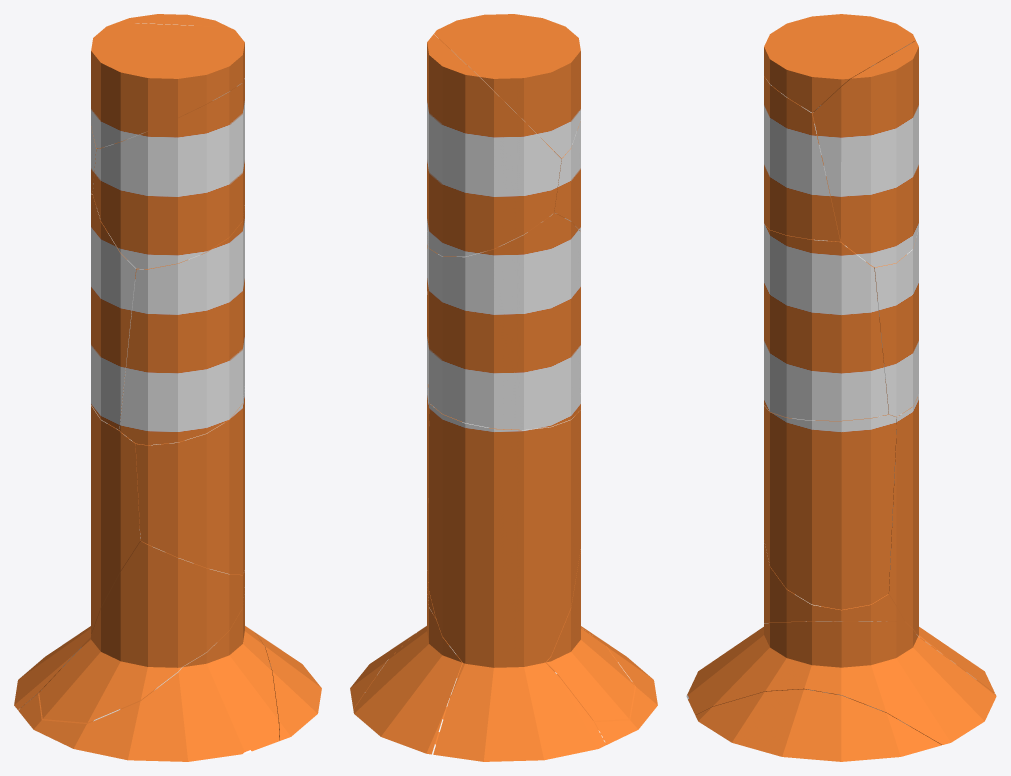
The model's file is cone2_pedacos.glb.
The picture shows the model from 3 angles, left to right: view 1: azimuth 30°, elevation 25°; view 2: azimuth 150°, elevation 25°; view 3: azimuth 270°, elevation 25°; orthographic projection.
Parts seen in each view (by area): view 1: Cylinder.001_cell.002, Cylinder.001_cell.003, Cylinder.001_cell.009, Cylinder.001_cell.005, Cylinder.001_cell.008, Cylinder.001_cell.004, Cylinder.001_cell, Cylinder.001_cell.007, Cylinder.001_cell.006, Cylinder.001_cell.001; view 2: Cylinder.001_cell, Cylinder.001_cell.007, Cylinder.001_cell.001, Cylinder.001_cell.008, Cylinder.001_cell.005, Cylinder.001_cell.009, Cylinder.001_cell.003, Cylinder.001_cell.006; view 3: Cylinder.001_cell.004, Cylinder.001_cell.005, Cylinder.001_cell.002, Cylinder.001_cell.001, Cylinder.001_cell.006, Cylinder.001_cell.008, Cylinder.001_cell.003, Cylinder.001_cell, Cylinder.001_cell.007, Cylinder.001_cell.009.
Boxes of the visible parts, x1,y1,x2,y2 form: Cylinder.001_cell.002: (119,205,244,445); Cylinder.001_cell.003: (92,78,244,268); Cylinder.001_cell.009: (39,541,244,722); Cylinder.001_cell.005: (18,588,279,761); Cylinder.001_cell.008: (91,22,244,148); Cylinder.001_cell.004: (135,387,244,574); Cylinder.001_cell: (14,405,140,709); Cylinder.001_cell.007: (91,194,136,430); Cylinder.001_cell.006: (255,632,321,740); Cylinder.001_cell.001: (91,14,228,193); Cylinder.001_cell: (428,404,605,761); Cylinder.001_cell.007: (427,213,580,429); Cylinder.001_cell.001: (427,34,561,256); Cylinder.001_cell.008: (434,14,580,158); Cylinder.001_cell.005: (353,587,657,754); Cylinder.001_cell.009: (427,549,634,720); Cylinder.001_cell.003: (547,120,580,231); Cylinder.001_cell.006: (350,632,416,708); Cylinder.001_cell.004: (764,405,896,609); Cylinder.001_cell.005: (686,621,996,744); Cylinder.001_cell.002: (764,224,888,420); Cylinder.001_cell.001: (812,41,918,267); Cylinder.001_cell.006: (695,689,941,761); Cylinder.001_cell.008: (764,14,915,112); Cylinder.001_cell.003: (764,76,840,241); Cylinder.001_cell: (888,395,994,692); Cylinder.001_cell.007: (874,229,918,416); Cylinder.001_cell.009: (764,540,904,623).
Bounding box in the file's own units: 1.41 × 3.25 × 1.41.
1 material, 1 textured.
